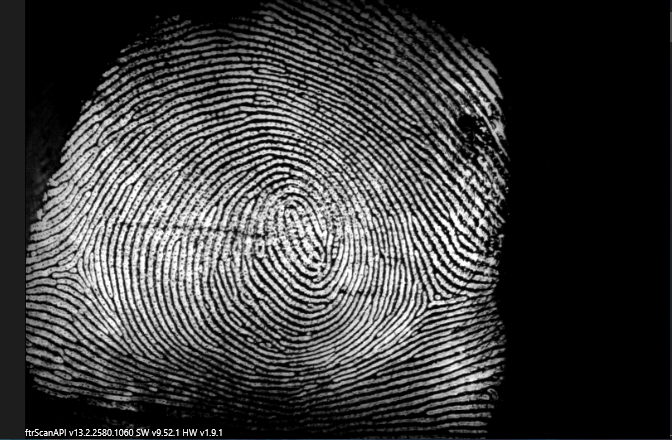nucelo: (275, 205, 305, 234)
verticilo: (56, 257, 90, 285), (413, 289, 442, 313)
